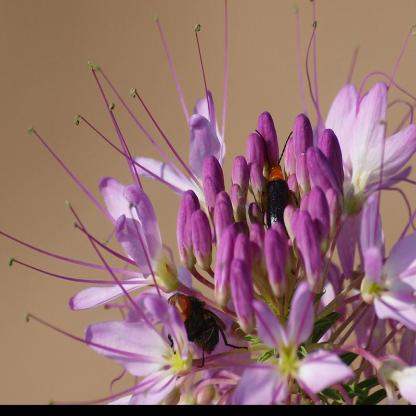beetle: (150, 285, 246, 362), (257, 126, 301, 228)
